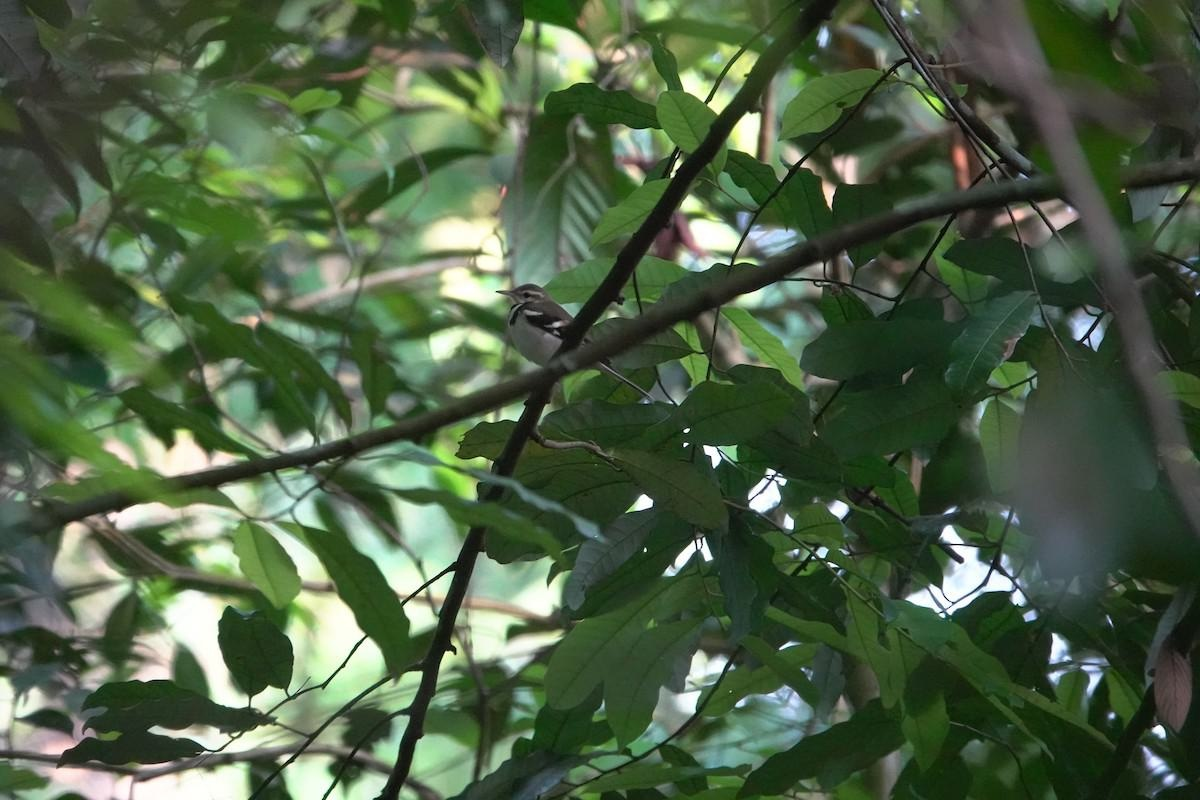wagtail: (491, 271, 654, 372)
